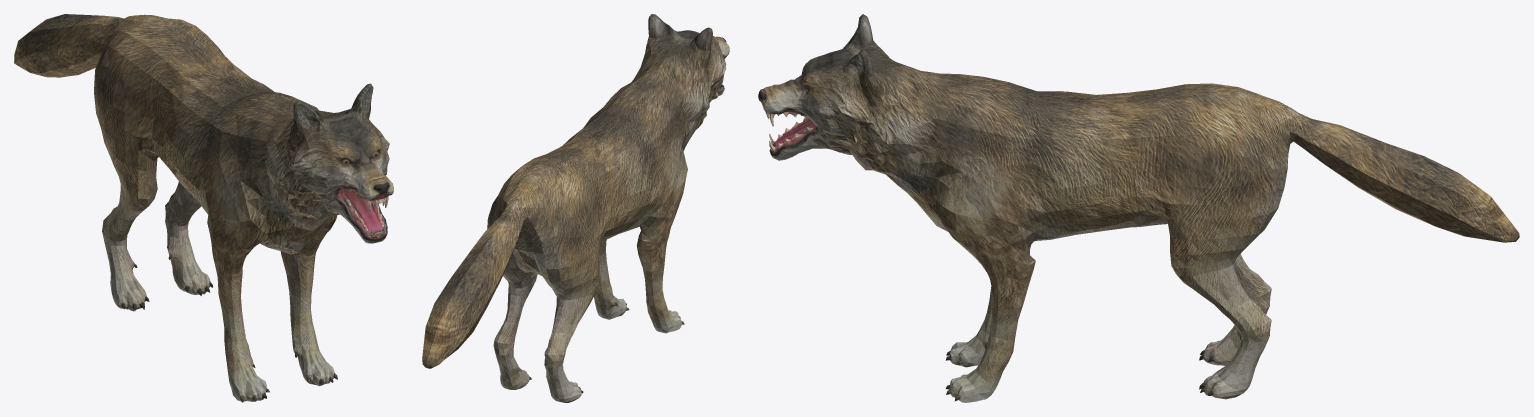
Rendered from wolf_unsmoothed.FBX.
The picture shows the model from 3 angles, left to right: view 1: azimuth 30°, elevation 25°; view 2: azimuth 150°, elevation 25°; view 3: azimuth 270°, elevation 25°; orthographic projection. The views are drawn at different scales.
Visible parts, largest first — view 1: FantasyWolf; view 2: FantasyWolf; view 3: FantasyWolf.
Part boxes in pixels (x1,y1,x2,y2): FantasyWolf: (14, 14, 393, 402); FantasyWolf: (422, 14, 729, 402); FantasyWolf: (758, 14, 1519, 402).
Bounding box in the file's own units: 46.98 × 141 × 278.
1 material, 1 textured.
